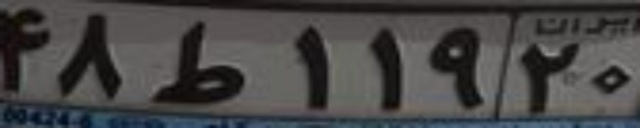0: (587, 62, 634, 95)
1: (291, 28, 331, 109), (368, 27, 401, 110)
2: (518, 39, 576, 113)
3: (1, 6, 47, 93)
8: (59, 13, 124, 97)
9: (426, 26, 483, 109)
taa: (146, 19, 246, 103)
